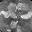people: (7, 3, 17, 13), (20, 11, 32, 19), (7, 12, 18, 19), (10, 20, 18, 29), (0, 10, 9, 17)
